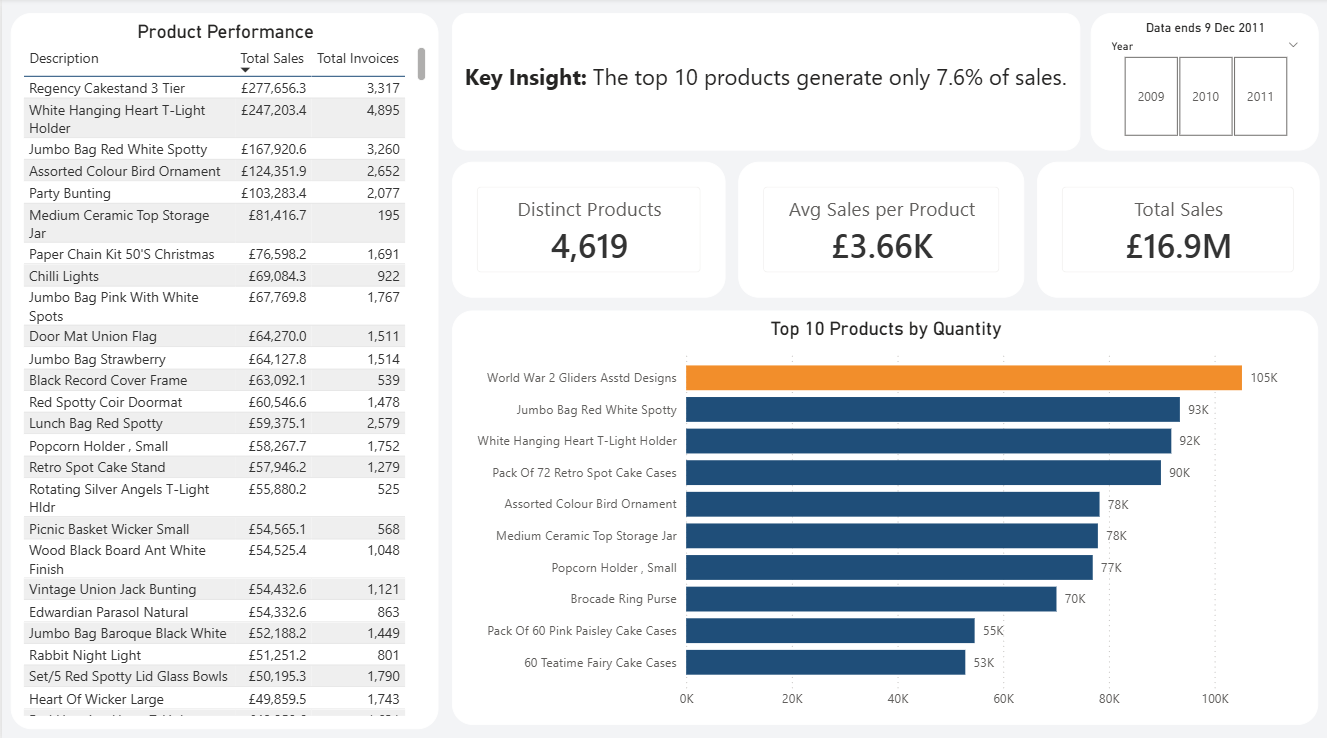

What the dashboard file says about the page in this screenshot:
{"tool":"powerbi","page":{"name":"Products","canvas":[1280,720],"ordinal":2},"visuals":[{"type":"tableEx","title":"Product Performance","fields":{"Values":["Dim_Product.Description","_Measures.Total Sales","_Measures.Total Invoices"]},"box":[9,14.2,413,691],"z":0},{"type":"clusteredBarChart","title":"Top 10 Products by Quantity","fields":{"Category":["Dim_Product.Description"],"Y":["_Measures.Total Quantity"]},"box":[434.9,301.1,836.4,400.2],"z":1000},{"type":"slicer","title":"Data ends 9 Dec 2011","fields":{"Values":["Dim_Date.Year"]},"box":[1051.2,14.2,220,132.5],"z":2000},{"type":"textbox","box":[434.9,14.2,606,132.5],"z":3000},{"type":"cardVisual","fields":{"Data":["_Measures.Distinct Products Text"]},"box":[434.3,158,264.2,131.5],"z":4000},{"type":"cardVisual","fields":{"Data":["_Measures.Avg Sales per Product Text"]},"box":[710.6,158,276.3,131.5],"z":5000},{"type":"cardVisual","fields":{"Data":["_Measures.Total Sales Card"]},"box":[998.9,158,272.7,131.5],"z":6000}]}

Visuals, with their boxes in screenshot pixels (x1, y1, x2, y2), scaled from the page's 1280x720 canvas onto the 1327x738 screenshot:
"Product Performance" tableEx: select_region(9, 15, 437, 723)
"Top 10 Products by Quantity" clusteredBarChart: select_region(451, 309, 1318, 719)
"Data ends 9 Dec 2011" slicer: select_region(1090, 15, 1318, 150)
textbox: select_region(451, 15, 1079, 150)
cardVisual - _Measures.Distinct Products Text: select_region(450, 162, 724, 297)
cardVisual - _Measures.Avg Sales per Product Text: select_region(737, 162, 1023, 297)
cardVisual - _Measures.Total Sales Card: select_region(1036, 162, 1318, 297)
